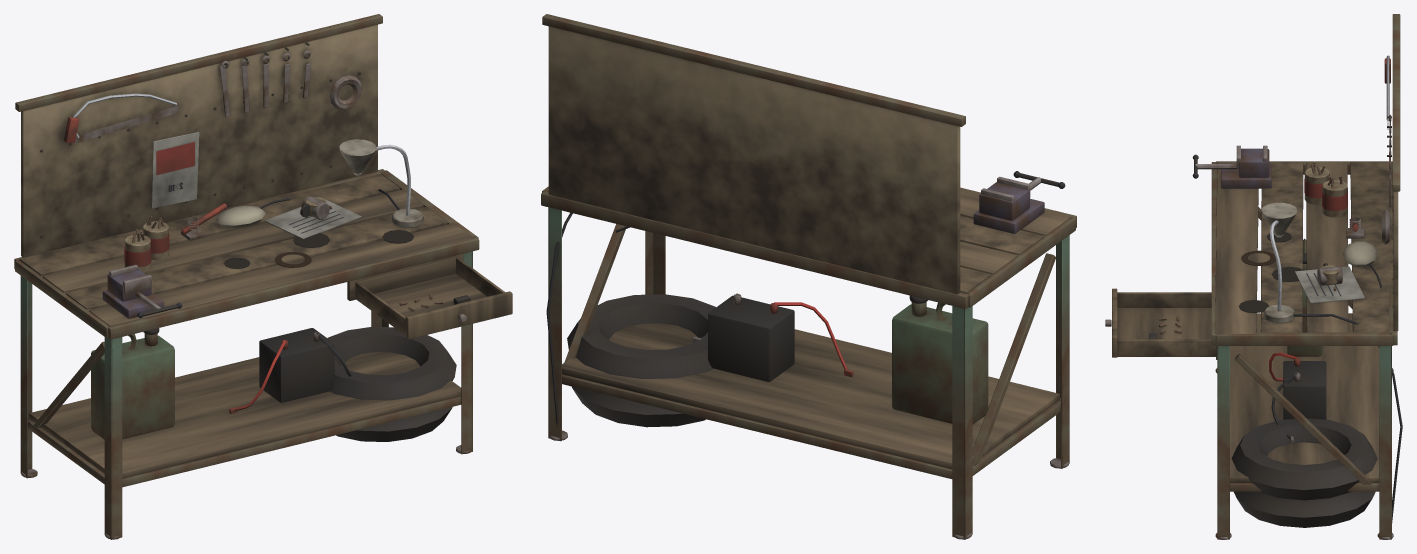
Rendered from g67_workbench.glb.
The picture shows the model from 3 angles, left to right: view 1: azimuth 30°, elevation 25°; view 2: azimuth 150°, elevation 25°; view 3: azimuth 270°, elevation 25°; orthographic projection. The views are drawn at different scales.
Visible parts, largest first — view 1: pegboard, shelf, top0, tire1, top1, canister, top2, top3, edge_f, battery, peg_frame_t, rail (+24 smaller); view 2: pegboard, shelf, canister, tire1, battery, edge_b, peg_frame_t, rail.001, leg_a.001, leg_a.003, brace, tire0 (+13 smaller); view 3: shelf, tire1, top0, top3, top1, top2, tire0, drawer_bottom, leg_b.002, leg_b.003, edge_s.001, battery (+21 smaller).
Part boxes in pixels (x1,y1,x2,y2): pegboard: [21, 24, 377, 257]; shelf: [29, 352, 461, 478]; top0: [89, 223, 474, 326]; tire1: [327, 326, 456, 400]; top1: [66, 206, 447, 309]; canister: [91, 335, 174, 439]; top2: [43, 189, 423, 292]; top3: [19, 174, 399, 275]; edge_f: [108, 236, 479, 339]; battery: [259, 328, 334, 402]; peg_frame_t: [15, 14, 382, 111]; rail: [122, 396, 461, 487]; pegboard: [548, 26, 960, 294]; shelf: [562, 323, 1059, 469]; canister: [892, 304, 988, 424]; tire1: [567, 294, 715, 378]; battery: [708, 295, 794, 381]; edge_b: [541, 191, 969, 308]; peg_frame_t: [542, 14, 965, 126]; rail.001: [562, 374, 952, 478]; leg_a.001: [952, 306, 965, 539]; leg_a.003: [548, 207, 561, 441]; brace: [972, 253, 1055, 465]; tire0: [572, 386, 705, 427]; shelf: [1230, 313, 1379, 482]; tire1: [1231, 418, 1377, 500]; top0: [1215, 162, 1258, 333]; top3: [1350, 161, 1393, 332]; top1: [1260, 162, 1303, 332]; top2: [1306, 162, 1348, 332]; tire0: [1234, 491, 1375, 527]; drawer_bottom: [1117, 308, 1215, 356]; leg_b.002: [1217, 346, 1229, 539]; leg_b.003: [1379, 346, 1391, 539]; edge_s.001: [1216, 332, 1393, 345]; battery: [1283, 361, 1326, 419].
Bounding box in the file's own units: 1.7 × 1.55 × 1.17.
Materials: 1 (1 with a texture image).
